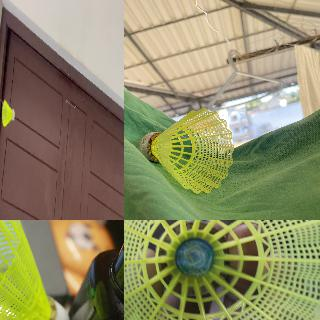shuttlecock: (124, 220, 319, 319), (138, 107, 234, 193), (0, 220, 70, 319), (2, 100, 15, 126)
